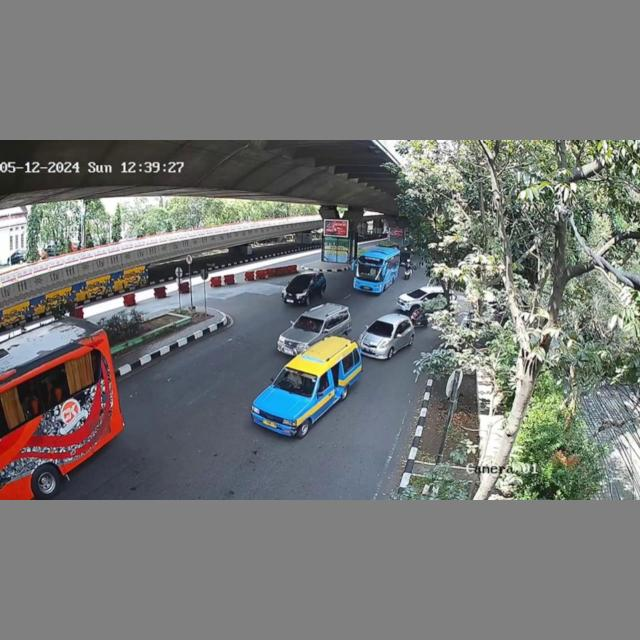windshield: (272, 367, 318, 397), (365, 321, 396, 339), (293, 316, 323, 333)
